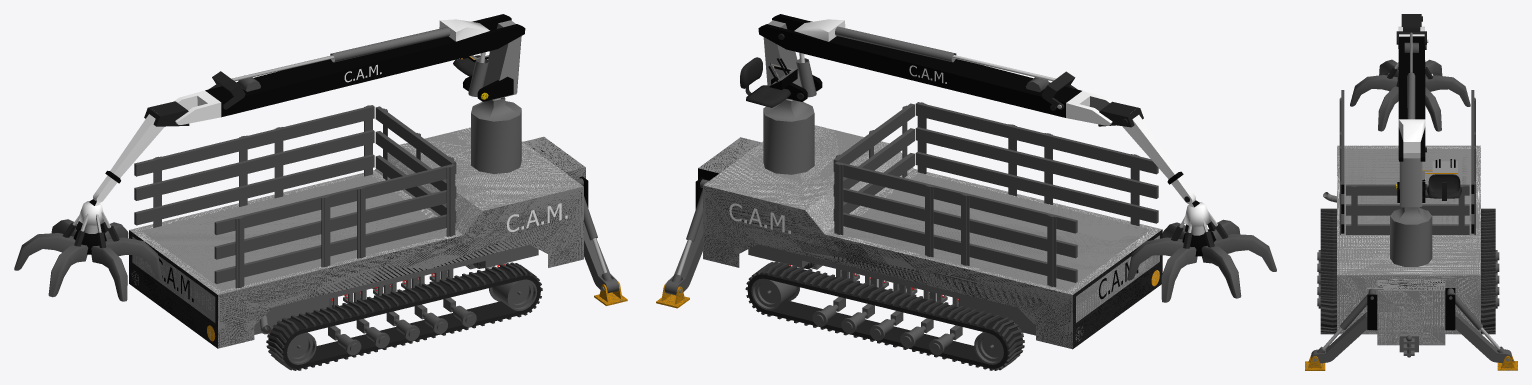
Rendered from Loader.dae.
3 views of the same model, side by side, from view 1: azimuth 30°, elevation 25°; view 2: azimuth 150°, elevation 25°; view 3: azimuth 270°, elevation 25° (orthographic). The views are drawn at different scales.
Visible parts, largest first — view 1: tracked_grapple_crawler, Component_46 (×3), Group24, Component_46_1_2 (×3), Component_16, Group17, Component_48 (×3), Component_45_1_2 (×4), Component_13, Group43, Group22, Group27 (+13 smaller); view 2: tracked_grapple_crawler, Component_46_1_2 (×3), Group24, Component_46 (×3), Component_16_1_2, Group17, Component_48 (×3), Component_45 (×4), Component_13, Group43, Group27, Component_28_1_2 (+14 smaller); view 3: tracked_grapple_crawler, Group24, Component_48 (×3), Group17, Group22, Group10, Group5, Component_16, Component_16_1_2, Group45, Group40, Component_45 (×2) (+18 smaller).
Boxes of the visible parts, x1,y1,x2,y2 form: tracked_grapple_crawler: (129,127,585,348); Component_46 (×3): (134,105,374,225); Group24: (174,14,525,124); Component_46_1_2 (×3): (214,164,454,283); Component_16: (268,265,540,368); Group17: (471,97,521,173); Component_48 (×3): (375,106,456,222); Component_45_1_2 (×4): (235,165,455,288); Component_13: (266,244,538,314); Group43: (89,114,164,205); Group22: (483,20,521,99); Group27: (330,27,450,62); tracked_grapple_crawler: (698,125,1162,349); Component_46_1_2 (×3): (915,102,1158,223); Group24: (758,14,1113,125); Component_46 (×3): (835,161,1077,282); Component_16_1_2: (747,264,1022,368); Group17: (763,100,814,174); Component_48 (×3): (833,103,914,220); Component_45 (×4): (834,163,1056,287); Component_13: (748,244,1023,314); Group43: (1123,115,1199,207); Group27: (835,26,956,62); Component_28_1_2: (751,278,800,310); tracked_grapple_crawler: (1337,145,1480,345); Group24: (1398,26,1425,161); Component_48 (×3): (1346,184,1469,234); Group17: (1390,207,1432,266); Group22: (1399,153,1422,207); Group10: (1455,311,1511,363); Group5: (1311,312,1367,363); Component_16: (1320,211,1336,329); Component_16_1_2: (1481,211,1495,329); Group45: (1350,75,1397,106); Group40: (1425,75,1470,106); Component_45 (×2): (1351,186,1464,234).
Bounding box in the file's own units: 293 × 121 × 130.
